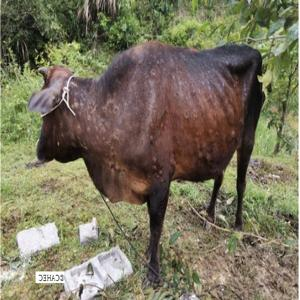lumpy skin diesease: (26, 39, 265, 287)
